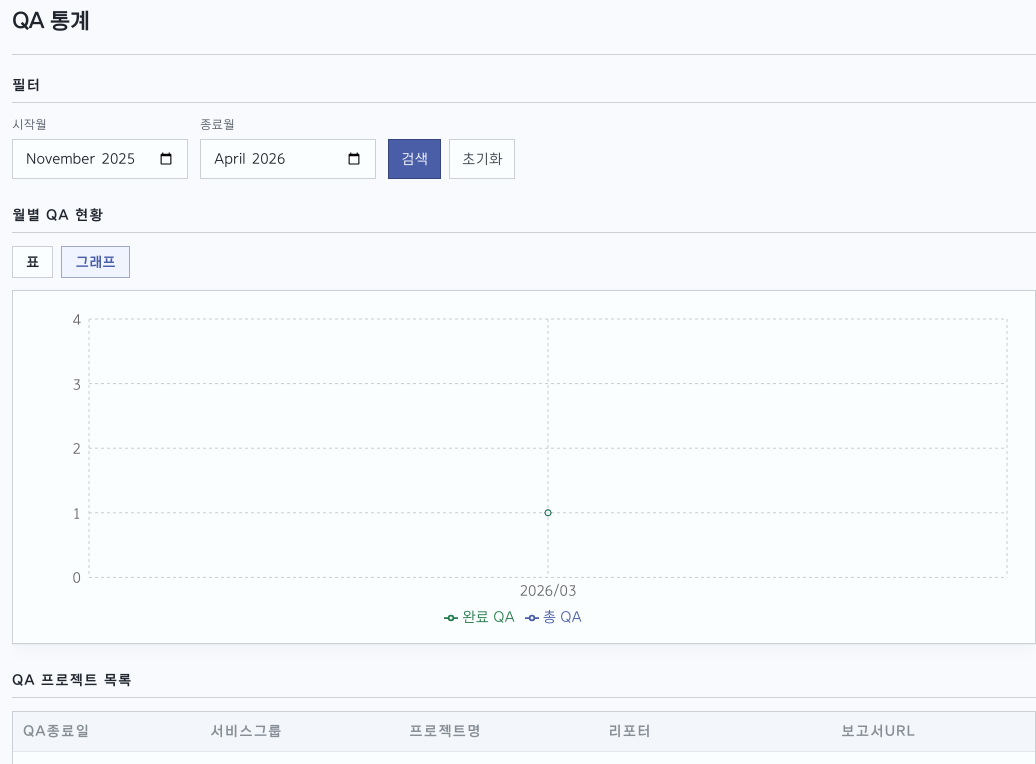
Test case: QaStatsPage › shows QA stats based on the current project structure
expect the text "메이커스 25년 3차" is not shown: met
Step 1. Replace the text in the field named "QA 시작월" with "2025-06" → (100, 159), box [12,139,188,179]
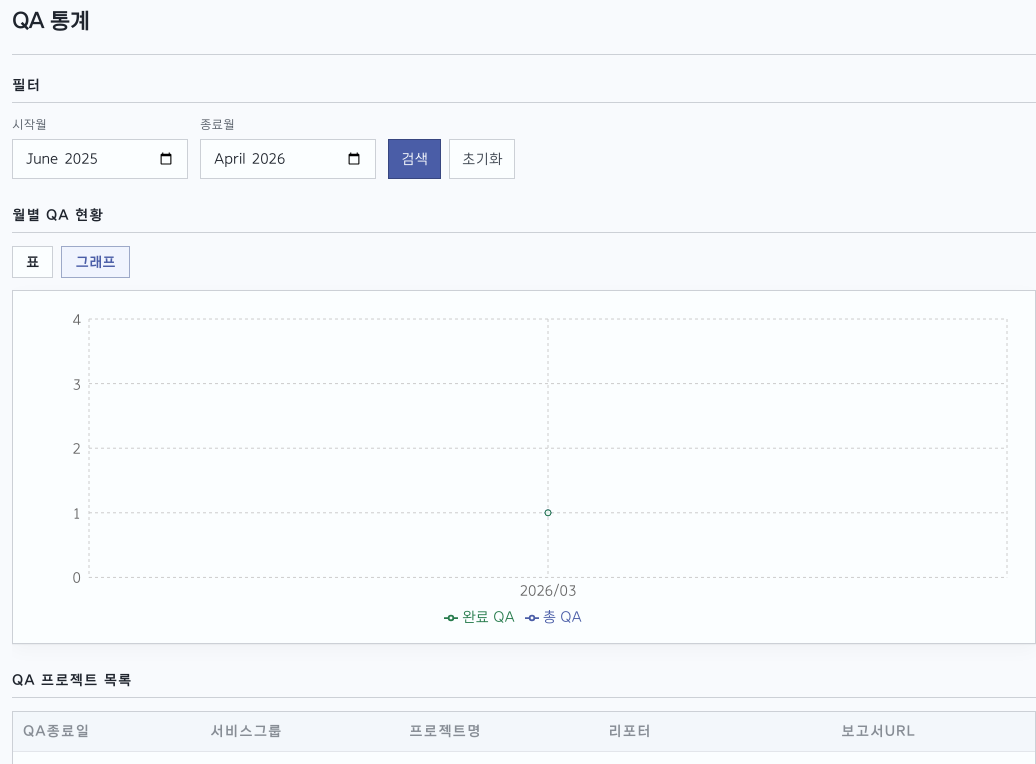
Step 2. Replace the text in the field named "QA 종료월" with "2025-06" → (288, 159), box [200,139,376,179]
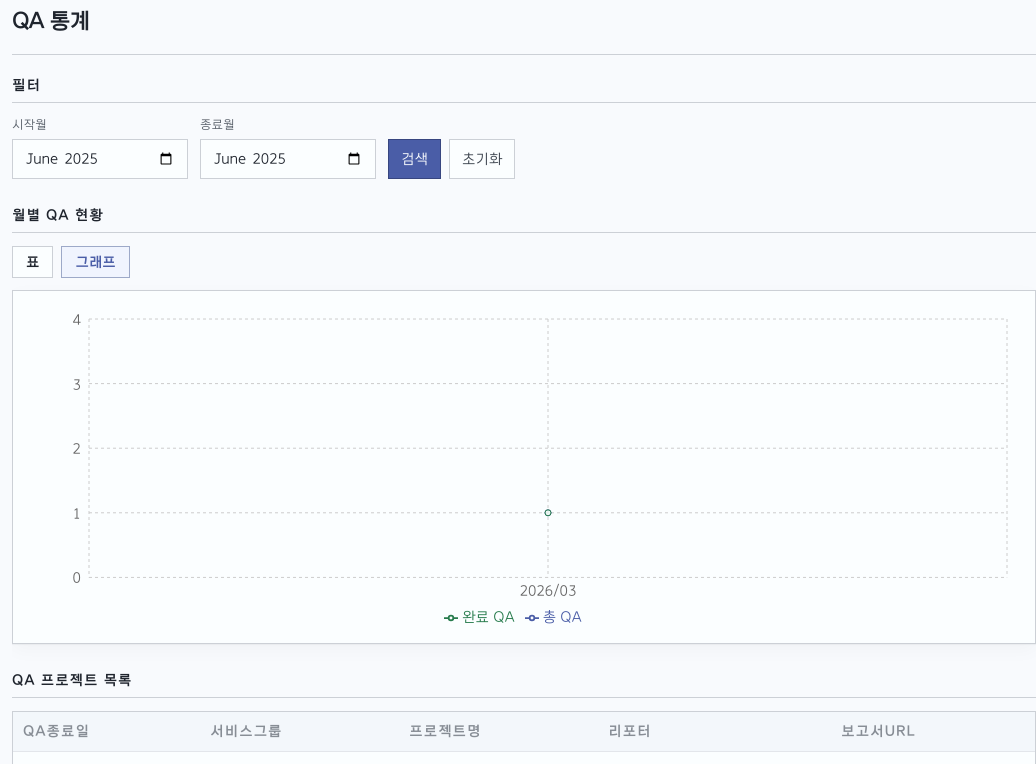
Step 3. Click the button "검색" → (414, 159), box [388,139,441,179]
(page scrolled)
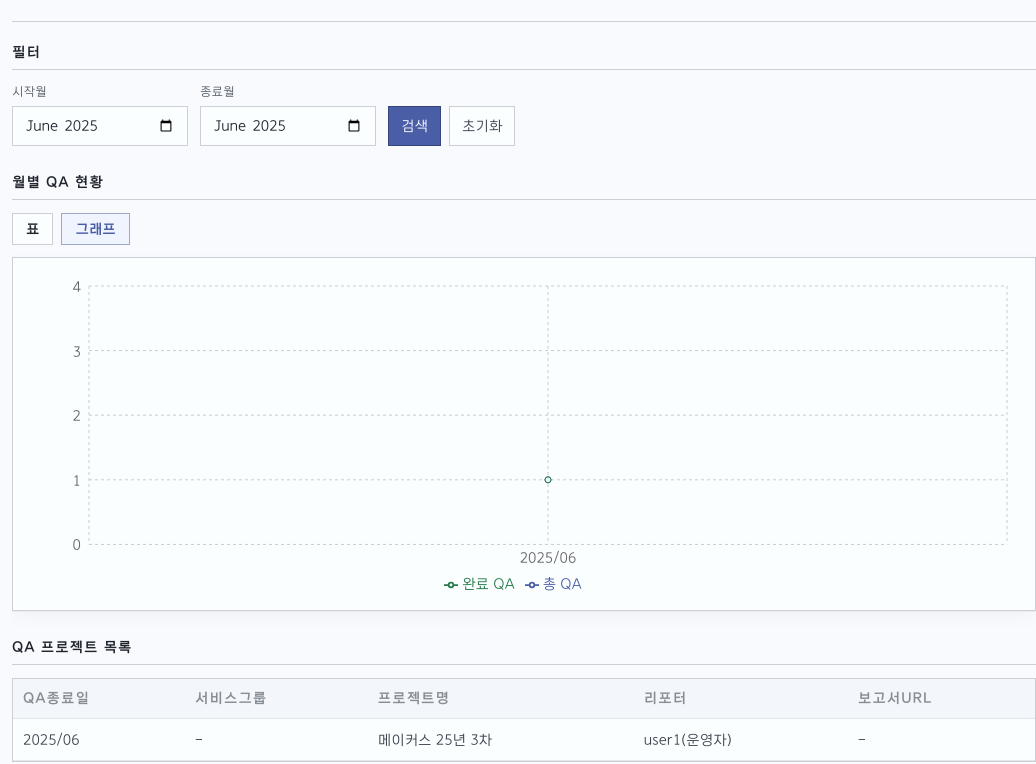
expect the text "user1(운영자)" is shown: met, box [634,719,848,761]
expect the text "메이커스 25년 3차" is shown: met, box [368,719,634,761]
